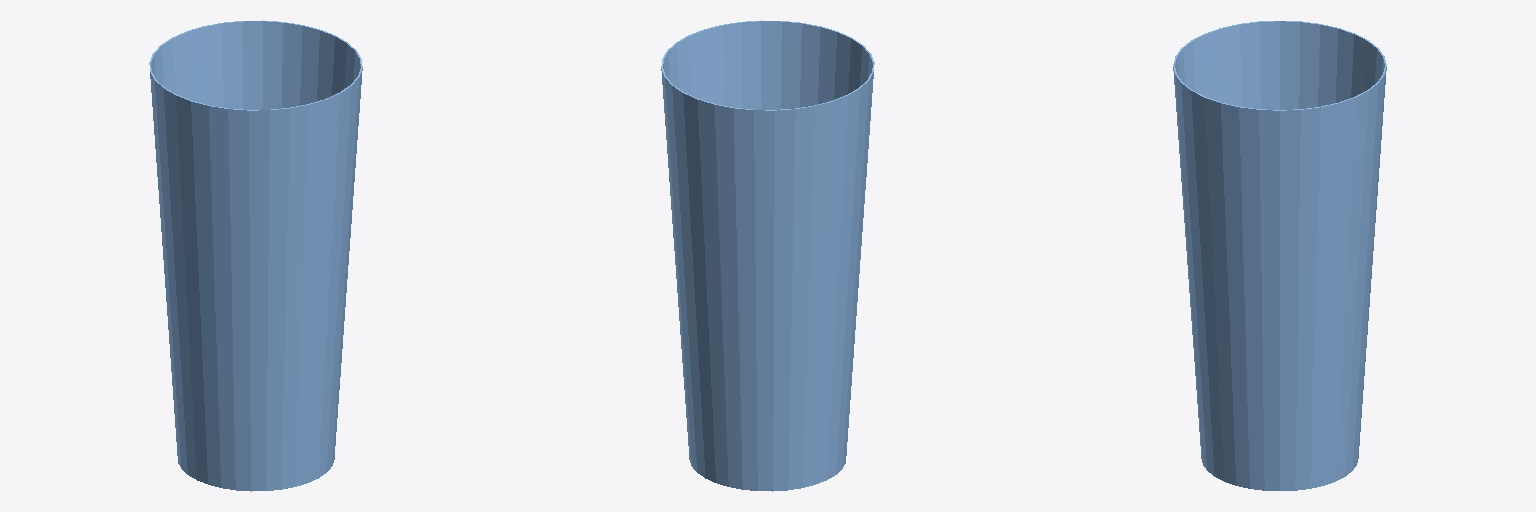
URDF robot description (glass_new):
<?xml version="1.0"?>
<robot name="glass_new">
    <link name="base_link">
        <inertial>
            <origin xyz="0 0 0" rpy="0 0 0"/>
            <mass value="0.4"/>
            <inertia ixx="0.002333333"  ixy="0"  ixz="0" iyy="0.002333333" iyz="0" izz="0.002" />
        </inertial>

        <visual>
            <origin xyz="0 0 0" rpy="0 0 0" />
            <geometry>
                <mesh filename="glass_new.dae" scale="0.036 0.036 0.036" />
            </geometry>
        </visual>

        <collision>
            <origin xyz="0 0 0" rpy="0 0 0"/>
            <geometry>
                <mesh filename="glass_new.dae" scale="0.036 0.036 0.036" />
            </geometry>
        </collision>
    </link>
</robot>

--- What the picture shows (computed from the rendered views, not written in the file) ---
Views: 3 orthographic renders of the robot side by side, from view 1: azimuth 30°, elevation 25°; view 2: azimuth 150°, elevation 25°; view 3: azimuth 270°, elevation 25°.
Model glass_new with 1 links and 0 joints (none), rooted at base_link, posed all joints at 0.
Visible links, largest first — view 1: base_link; view 2: base_link; view 3: base_link.
Link boxes in pixels (x1,y1,x2,y2): base_link: (149, 20, 362, 491); base_link: (661, 20, 874, 491); base_link: (1173, 21, 1386, 490).
Size in the robot's own frame: 0.0766 by 0.0766 by 0.1552 metres.
1 mesh visuals loaded from 1 distinct referenced files (1 Collada DAE).